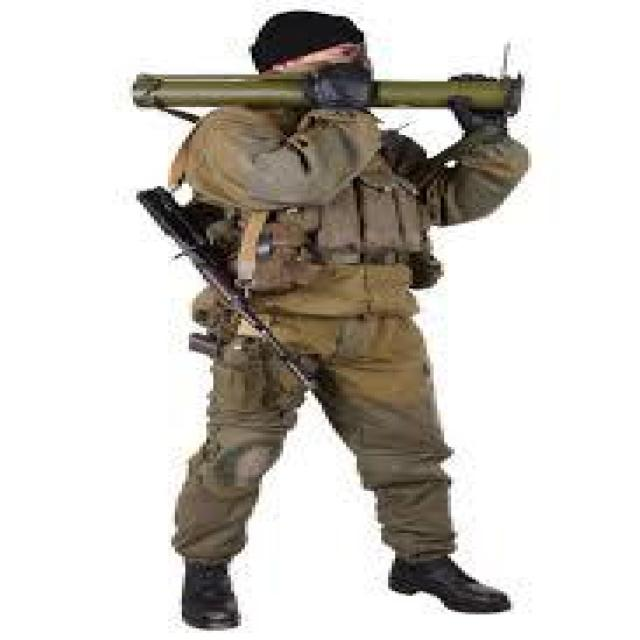bazooka: (126, 51, 544, 130)
